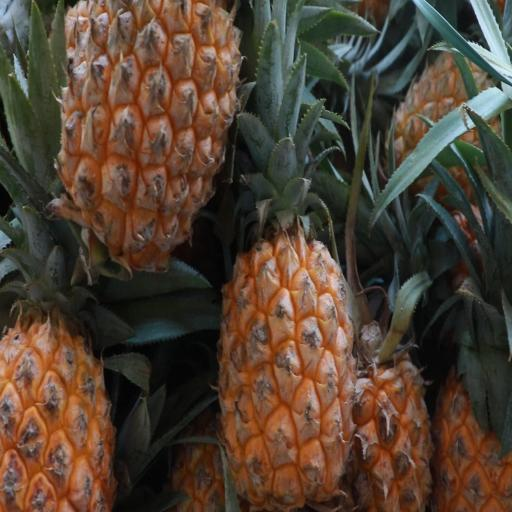Pineapple - v8 v1: (211, 151, 362, 512), (55, 0, 246, 281), (428, 187, 512, 512), (2, 302, 123, 512), (336, 295, 438, 512)
